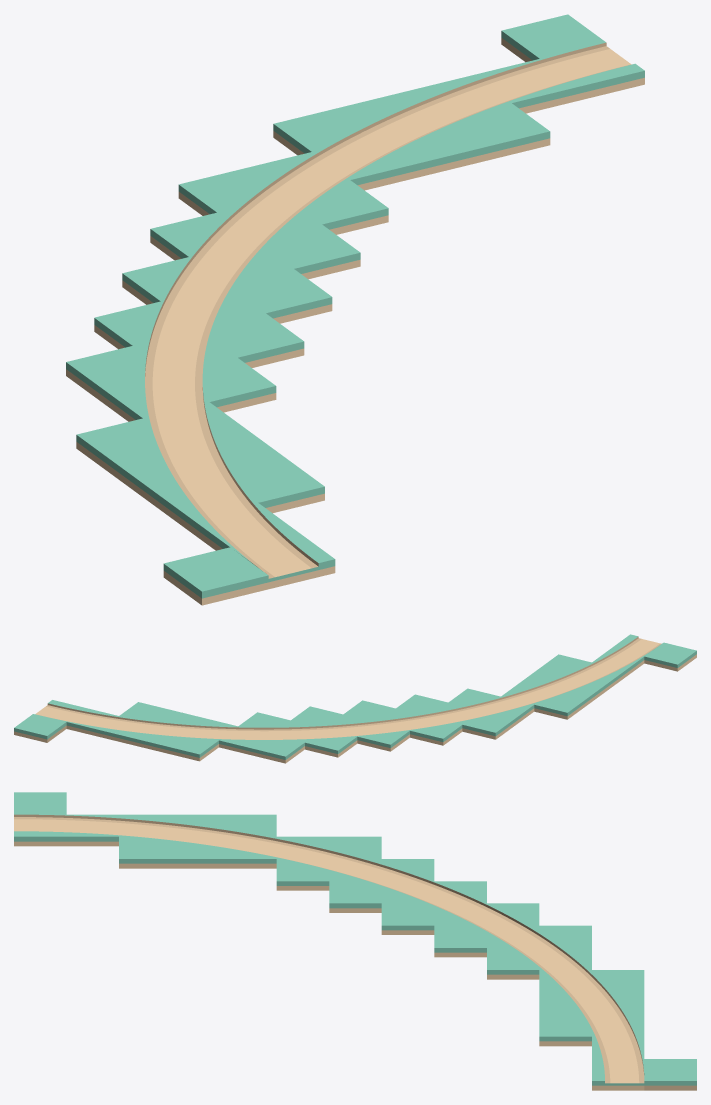
File: ground.fbx
3 views of the same model, one above another, from view 1: azimuth 30°, elevation 25°; view 2: azimuth 150°, elevation 25°; view 3: azimuth 270°, elevation 25° (orthographic). The views are drawn at different scales.
Visible parts, largest first — view 1: tile_cornerLarge; view 2: tile_cornerLarge; view 3: tile_cornerLarge.
Part boxes in pixels (x1,y1,x2,y2): tile_cornerLarge: (66,14,644,605); tile_cornerLarge: (14,634,696,763); tile_cornerLarge: (14,792,696,1090).
Size of what is drawn, in the model's own units: 1300 by 20 by 1300.
